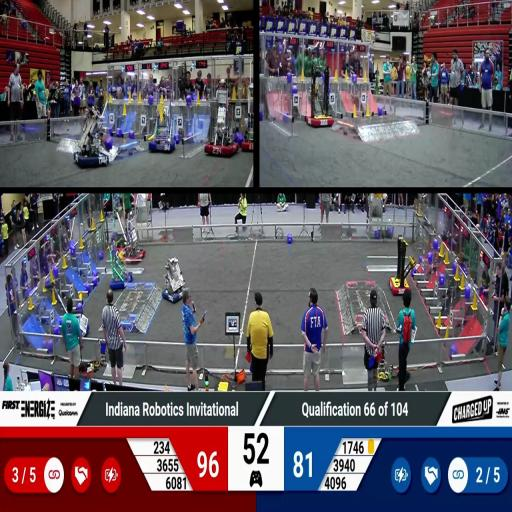robot: (206, 89, 238, 161), (73, 110, 111, 168), (388, 234, 420, 296), (148, 87, 177, 155), (308, 62, 335, 130), (106, 240, 135, 292), (117, 216, 149, 262), (240, 58, 254, 152), (161, 258, 188, 304), (74, 312, 91, 338)
